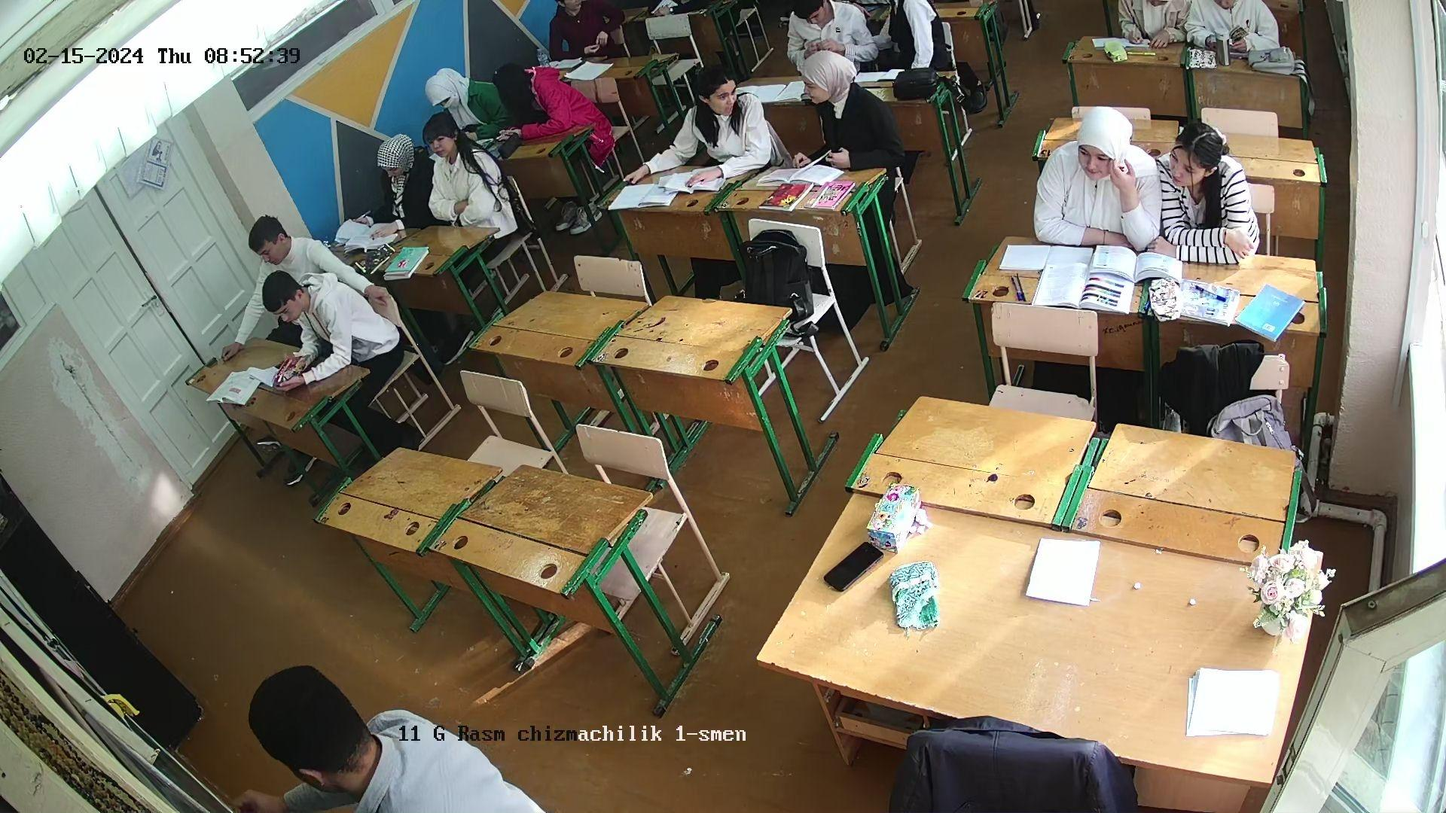Look Around: (681, 62, 764, 169), (794, 57, 887, 151), (549, 0, 616, 59)
Normal: (261, 277, 372, 390)
Stand Up: (230, 653, 548, 813)
